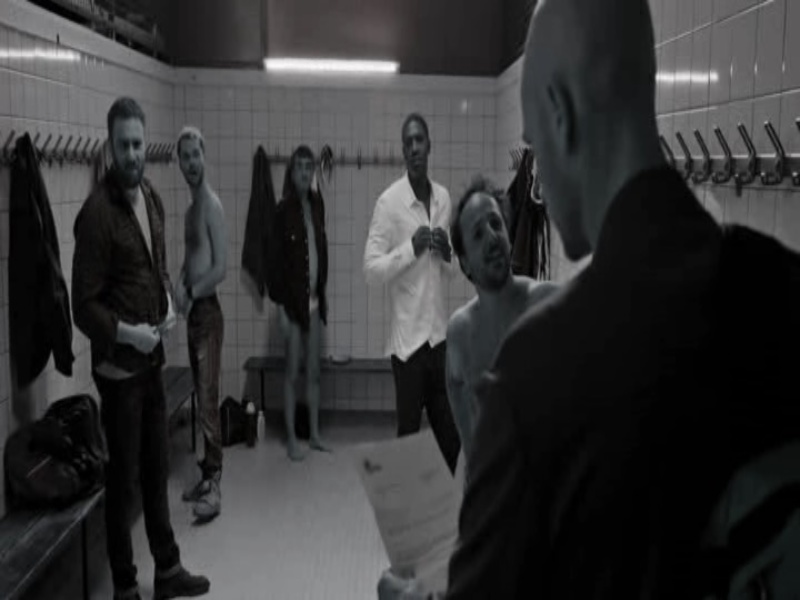TsisyArotava: (444, 186, 532, 299), (102, 98, 158, 191), (398, 113, 435, 183)
